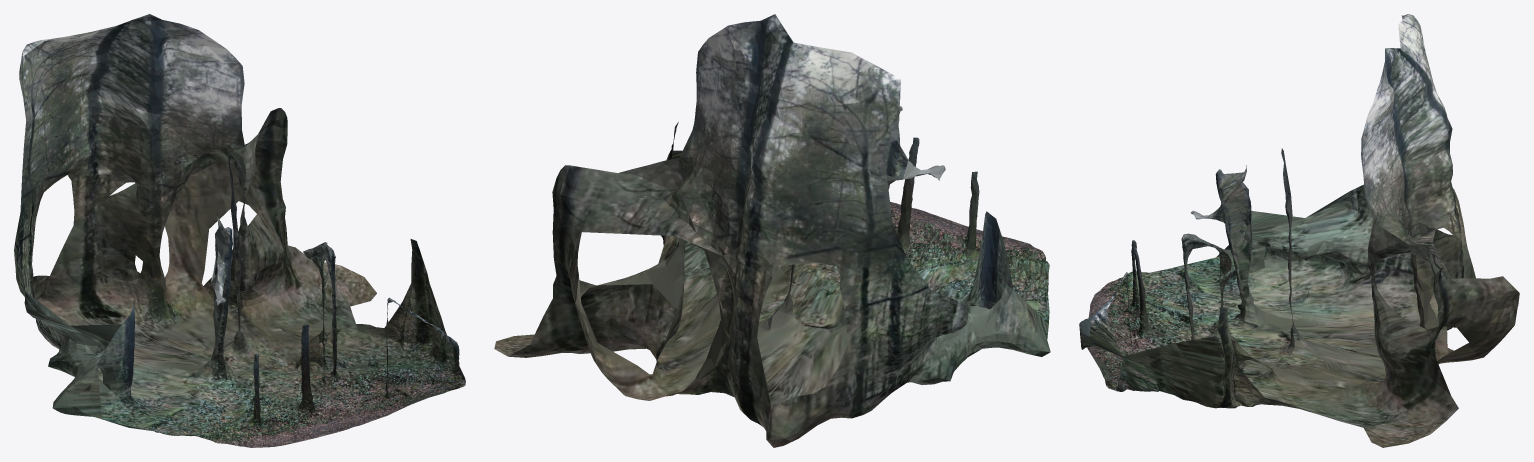
File: Forest-center-00(1).fbx
The picture shows the model from 3 angles, left to right: view 1: azimuth 30°, elevation 25°; view 2: azimuth 150°, elevation 25°; view 3: azimuth 270°, elevation 25°; orthographic projection. The views are drawn at different scales.
Visible parts, largest first — view 1: meshes[0]; view 2: meshes[0]; view 3: meshes[0].
Part boxes in pixels (left/top/right/bottom): meshes[0]: left=14, top=14, right=465, bottom=447; meshes[0]: left=494, top=14, right=1050, bottom=447; meshes[0]: left=1079, top=14, right=1519, bottom=447.
Size of the model in its own units: 4.97 by 4.02 by 5.34.
1 material, 1 textured.
